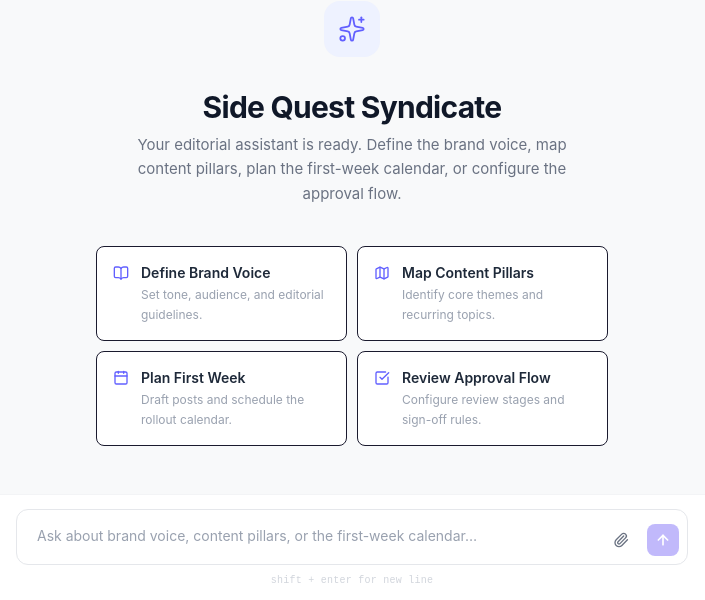
it: Homepage Chat UI › allows typing and disables submit when empty
Expected: the button named "Send message" is disabled, top-left (647, 524), bottom-right (679, 556)
Replace the text in the text box named "Type a message" with "Hello". click: (310, 537)
box: top-left (25, 518), bottom-right (595, 556)
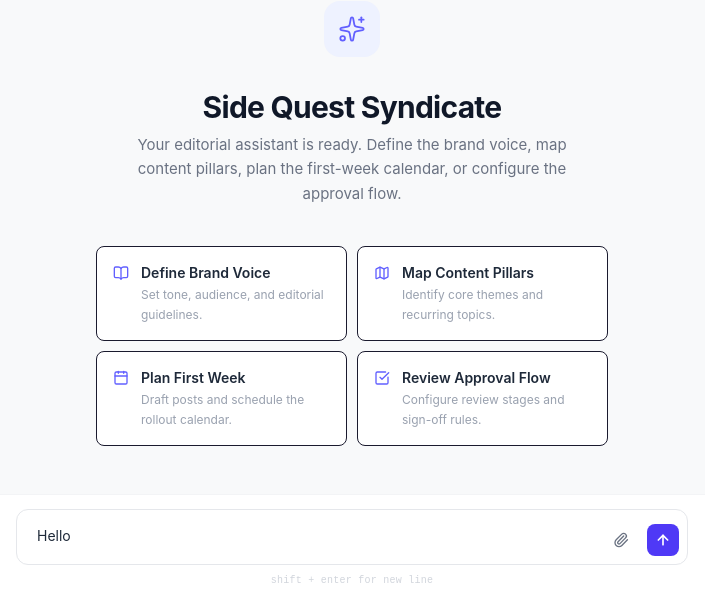
Result: the button named "Send message" is enabled at top-left (647, 524), bottom-right (679, 556)
Clear the text box named "Type a message". click: (310, 537)
box: top-left (25, 518), bottom-right (595, 556)
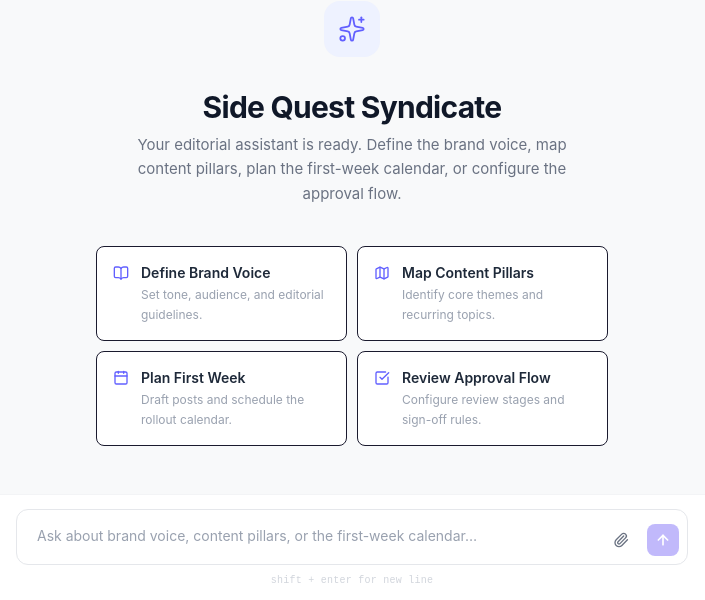
Result: the button named "Send message" is disabled at top-left (647, 524), bottom-right (679, 556)
